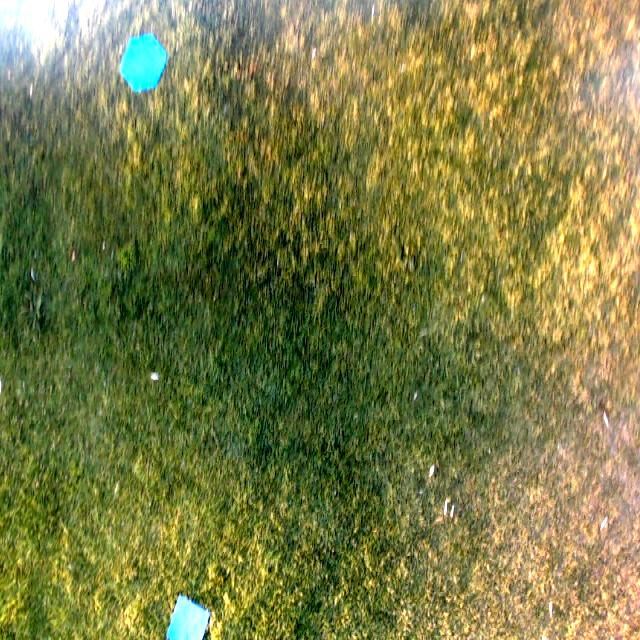blue_hexagon: (119, 35, 166, 90)
